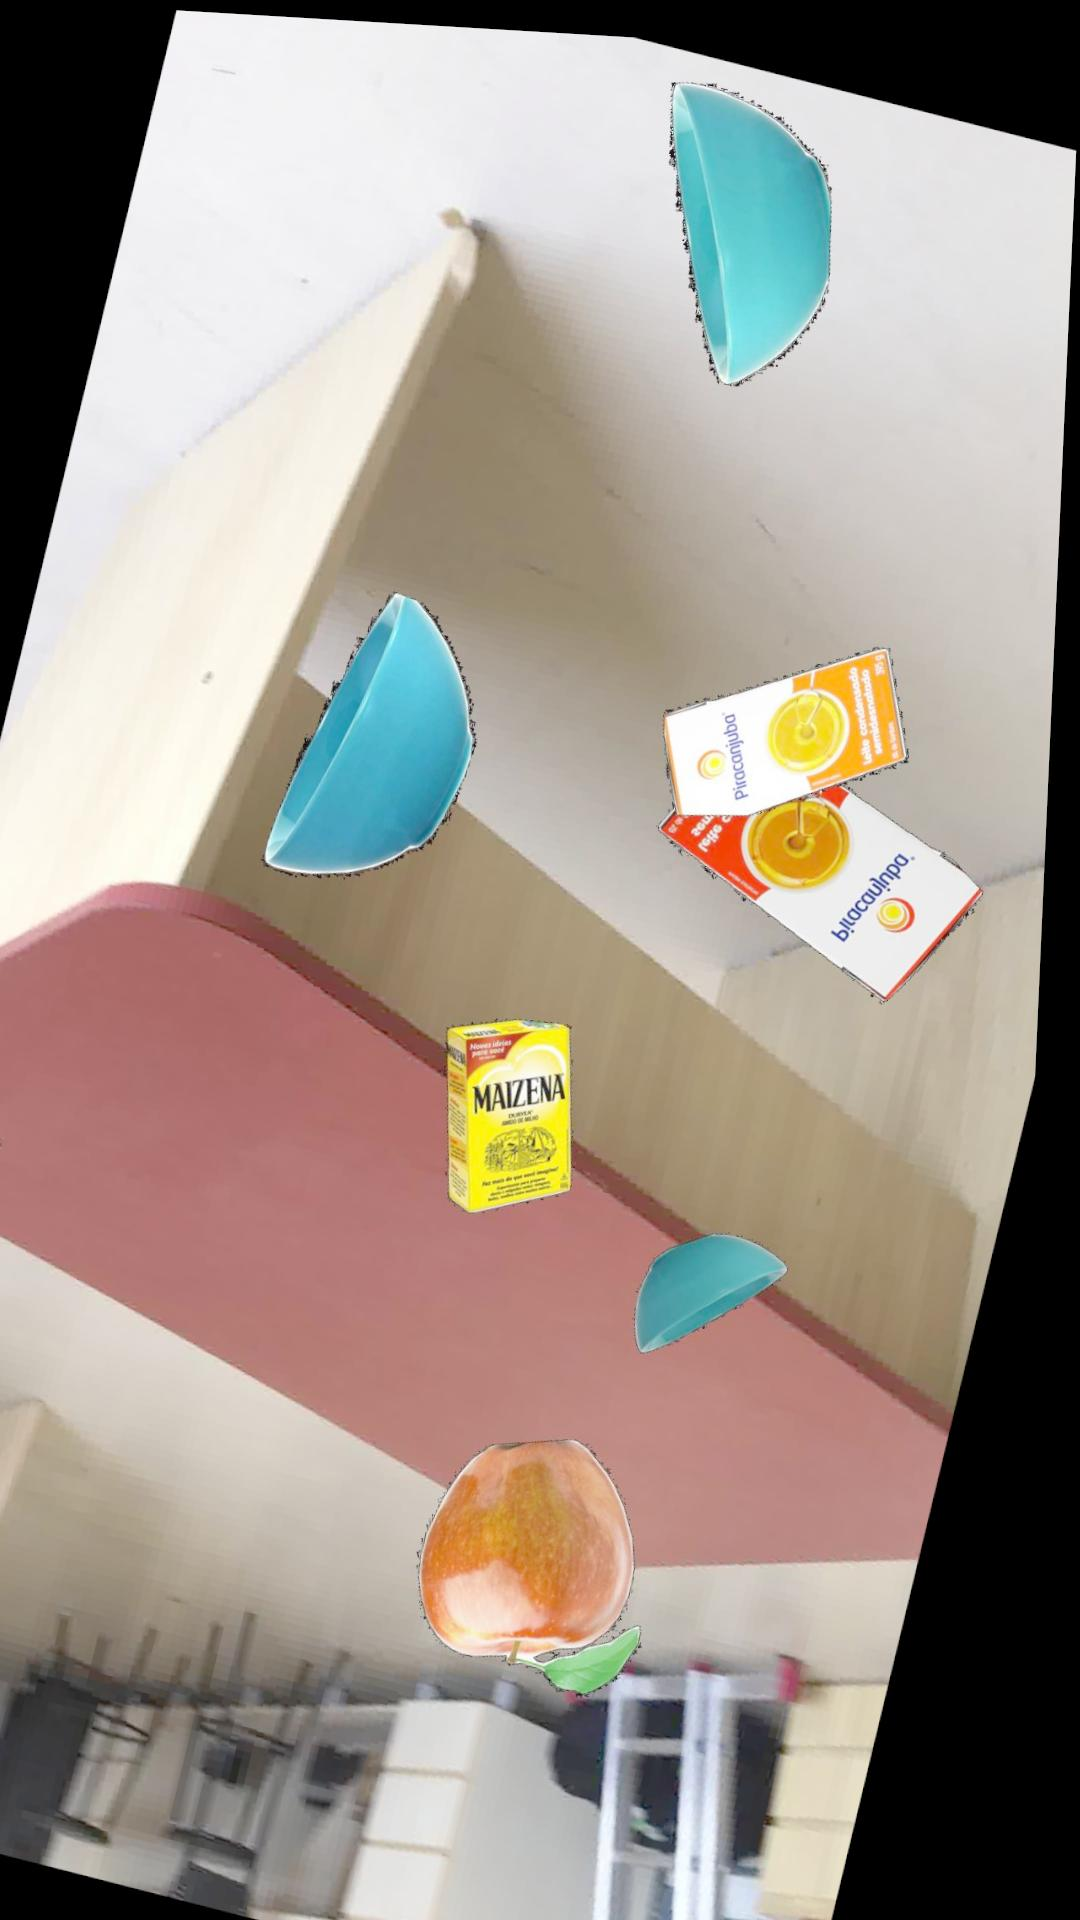apple: (431, 1432, 654, 1691)
bowl: (266, 588, 481, 876), (669, 75, 831, 378), (645, 1225, 798, 1345)
